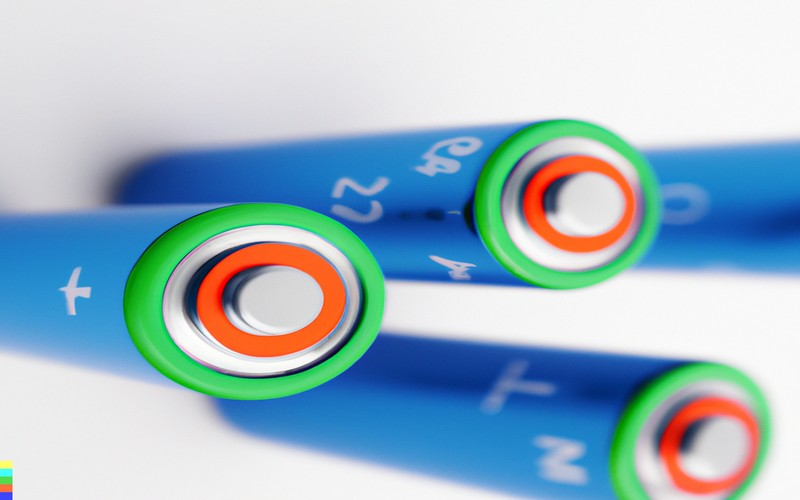Battery: (102, 98, 800, 500), (0, 188, 403, 405)
